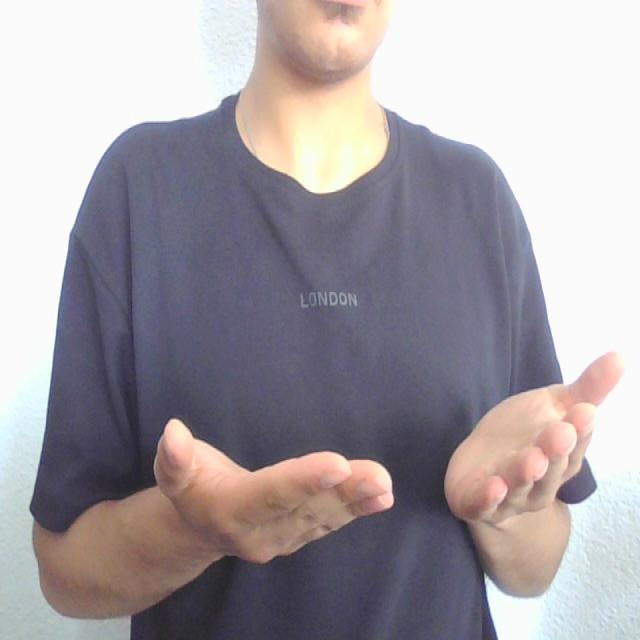Evet: (146, 345, 624, 564)
